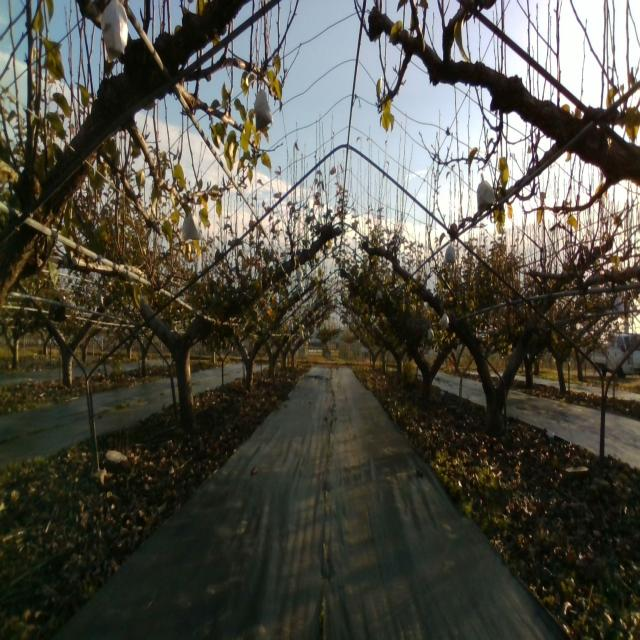pearbags: (100, 0, 129, 64), (254, 88, 273, 132), (476, 172, 496, 213), (180, 211, 202, 241), (442, 240, 457, 266)
